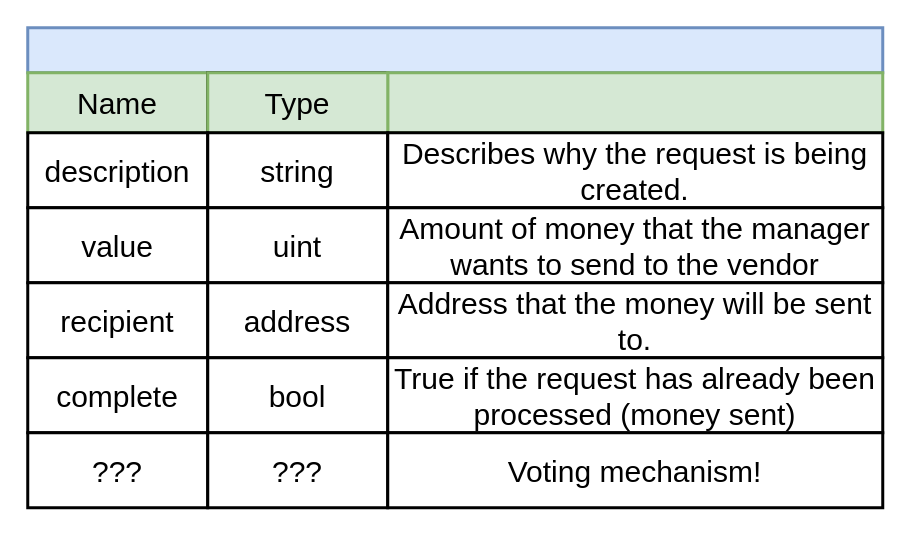
Some shapes in this 909 by 534 pixel diagram are drawn without their labels. Each missing label, with the box of its shape:
Purpose: (386, 70, 884, 134)
Request Struct: (26, 26, 884, 74)
